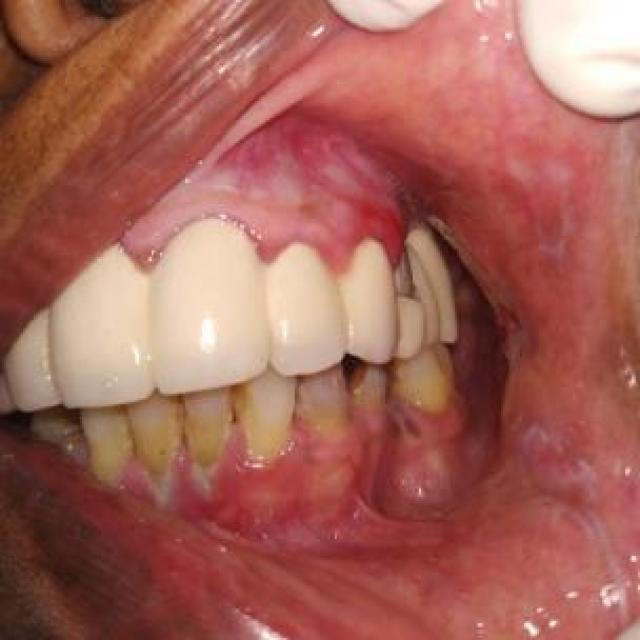leukoplakia-detection: (429, 136, 638, 638), (127, 100, 416, 266)
processing_area: (30, 0, 638, 638)
